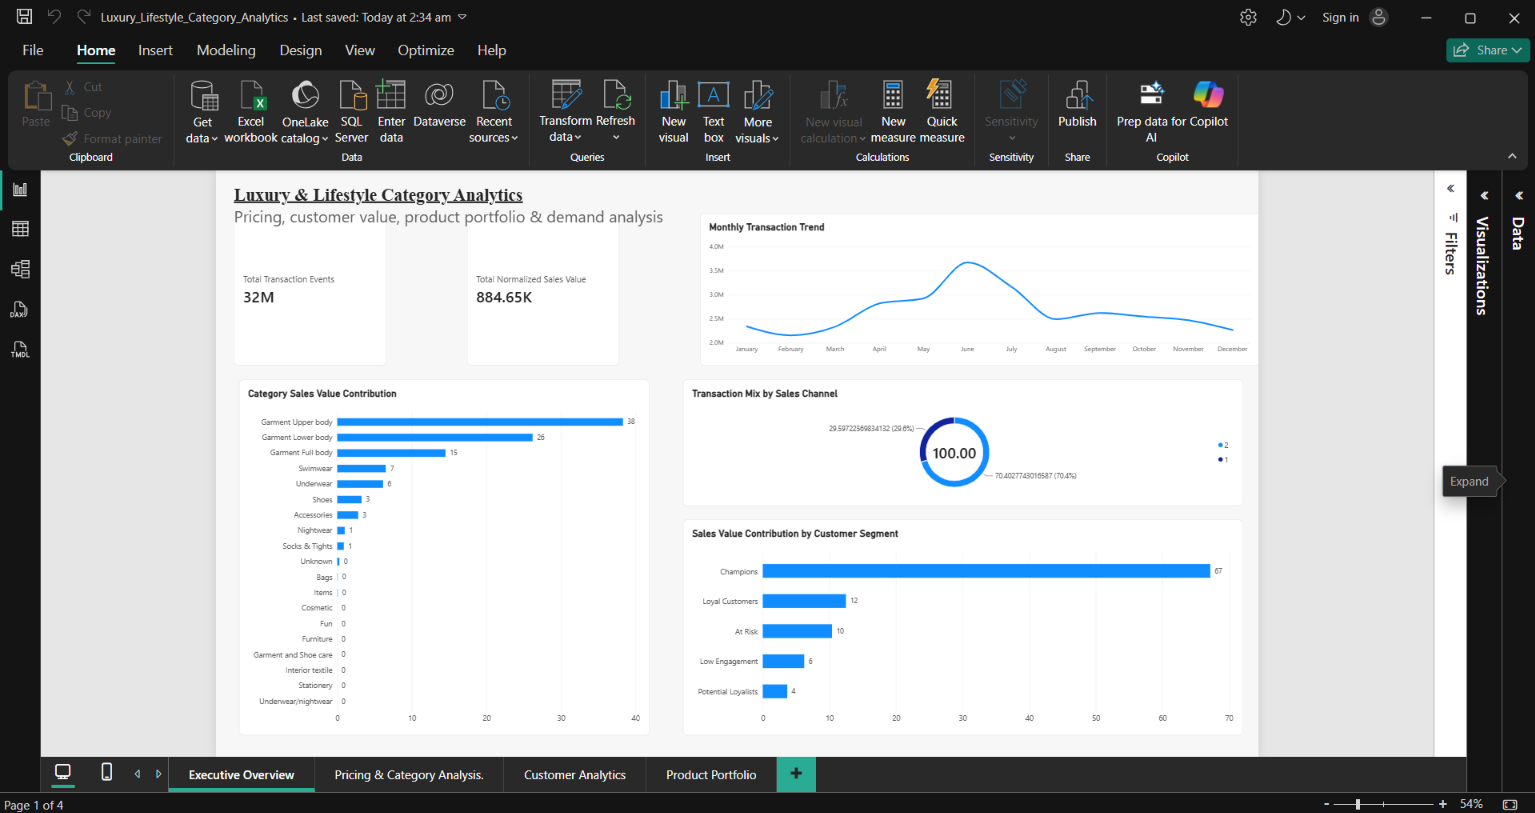

What the dashboard file says about the page in this screenshot:
{"tool":"powerbi","page":{"name":"Executive Overview","canvas":[1920,1080],"ordinal":0},"visuals":[{"type":"cardVisual","fields":{"Data":["Sum(monthly_transaction_summary.transaction_count)"]},"box":[32.5,80,280,280],"z":0},{"type":"cardVisual","fields":{"Data":["Sum(monthly_transaction_summary.total_sales_value)"]},"box":[462.5,80,280,280],"z":1000},{"type":"lineChart","title":"Monthly Transaction Trend","fields":{"Category":["monthly_transaction_summary.month.Variation.Date Hierarchy.Month"],"Y":["Sum(monthly_transaction_summary.transaction_count)"]},"box":[890,80,1030,280],"z":2000},{"type":"clusteredBarChart","title":"Category Sales Value Contribution","fields":{"Category":["category_price_summary.product_group_name"],"Y":["Sum(category_price_summary.sales_value_share_pct)"]},"box":[42.5,385,755,655],"z":3000},{"type":"donutChart","title":"Transaction Mix by Sales Channel","fields":{"Category":["channel_summary.sales_channel_id"],"Y":["Sum(channel_summary.transaction_share_pct)"]},"box":[860,385,1030,232.5],"z":4000},{"type":"clusteredBarChart","title":"Sales Value Contribution by Customer Segment","fields":{"Category":["rfm_segment_summary.segment"],"Y":["Sum(rfm_segment_summary.sales_share_pct)"]},"box":[860,642.5,1030,397.5],"z":5000},{"type":"textbox","title":"Luxury & Lifestyle Category Analytics","box":[32.5,25,817.5,155],"z":6000}]}

Visuals, with their boxes on the page's 1920x1080 design canvas (x1, y1, x2, y2). These are canvas units, not pixel positions in the 1535x813 screenshot, which may show the page scaled, cropped or inside an application window:
cardVisual - Sum(monthly_transaction_summary.transaction_count): <region>32, 80, 312, 360</region>
cardVisual - Sum(monthly_transaction_summary.total_sales_value): <region>462, 80, 742, 360</region>
"Monthly Transaction Trend" lineChart: <region>890, 80, 1920, 360</region>
"Category Sales Value Contribution" clusteredBarChart: <region>42, 385, 798, 1040</region>
"Transaction Mix by Sales Channel" donutChart: <region>860, 385, 1890, 618</region>
"Sales Value Contribution by Customer Segment" clusteredBarChart: <region>860, 642, 1890, 1040</region>
"Luxury & Lifestyle Category Analytics" textbox: <region>32, 25, 850, 180</region>
